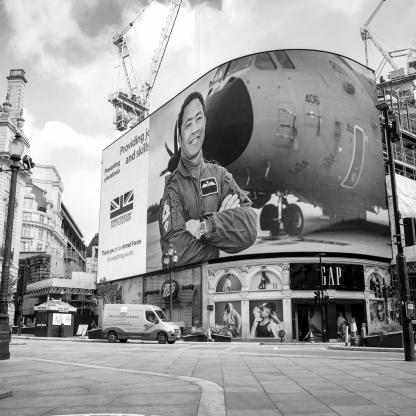A400M: (161, 51, 388, 236)
